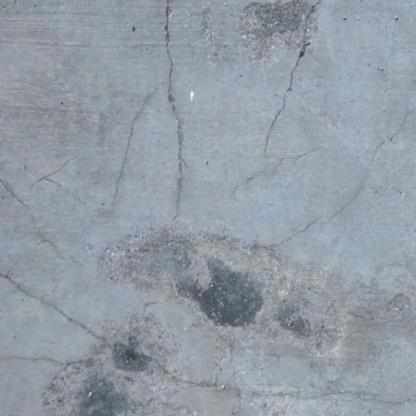Cracks: (236, 100, 416, 261), (100, 0, 197, 229), (236, 0, 333, 197), (140, 348, 416, 416), (0, 260, 117, 373), (0, 148, 85, 253)
